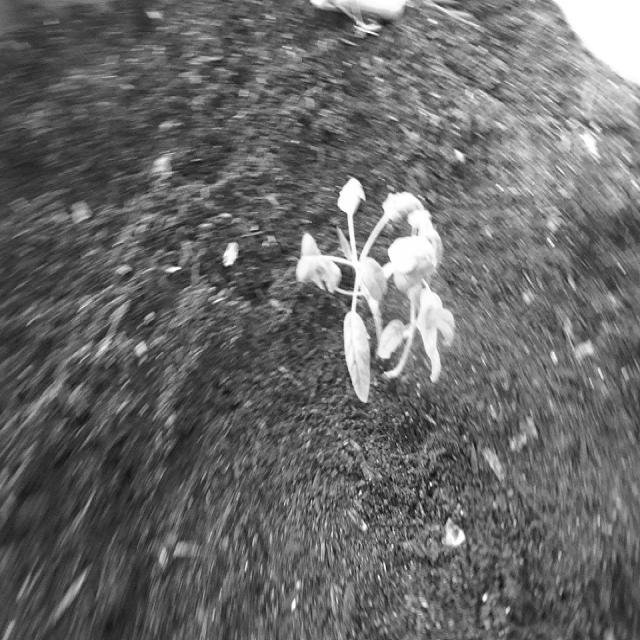Healthy: (286, 154, 464, 418)
